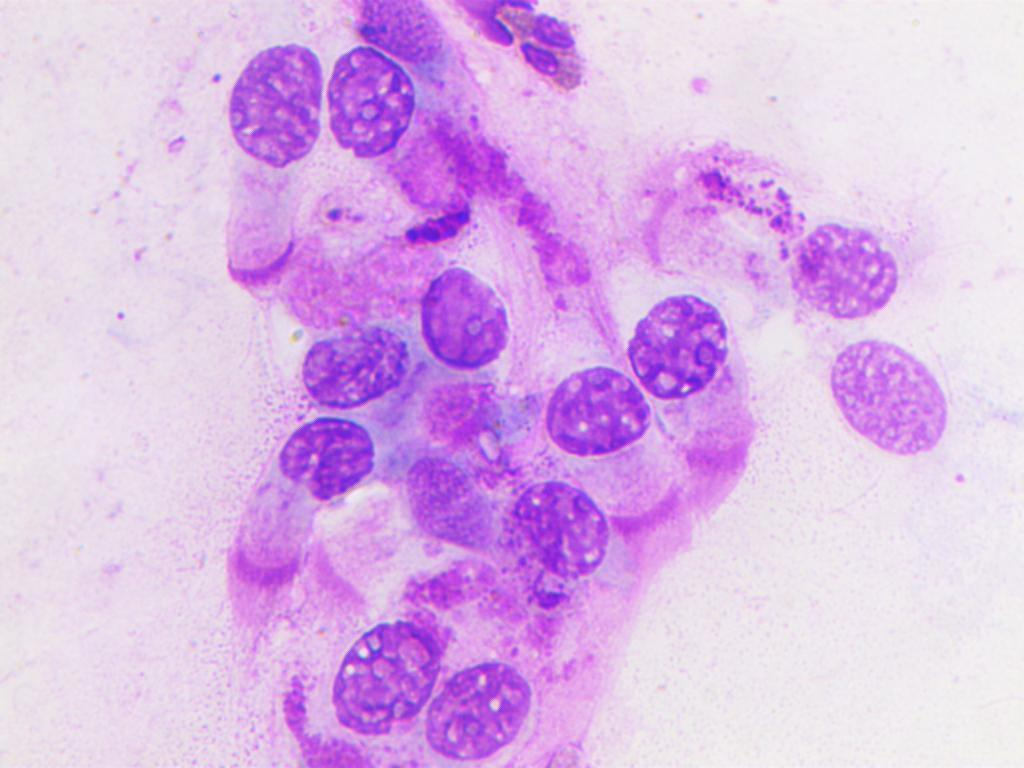ciliated: (224, 415, 370, 625), (220, 38, 328, 311), (632, 292, 780, 472), (544, 365, 679, 553)
epithelial: (323, 610, 456, 746), (829, 337, 949, 458), (424, 661, 534, 760), (787, 223, 899, 320), (513, 468, 608, 581), (390, 459, 498, 554)
lymphocyte: (324, 44, 419, 159), (419, 265, 507, 368), (302, 328, 408, 411)
neutrophil: (467, 0, 607, 98)
